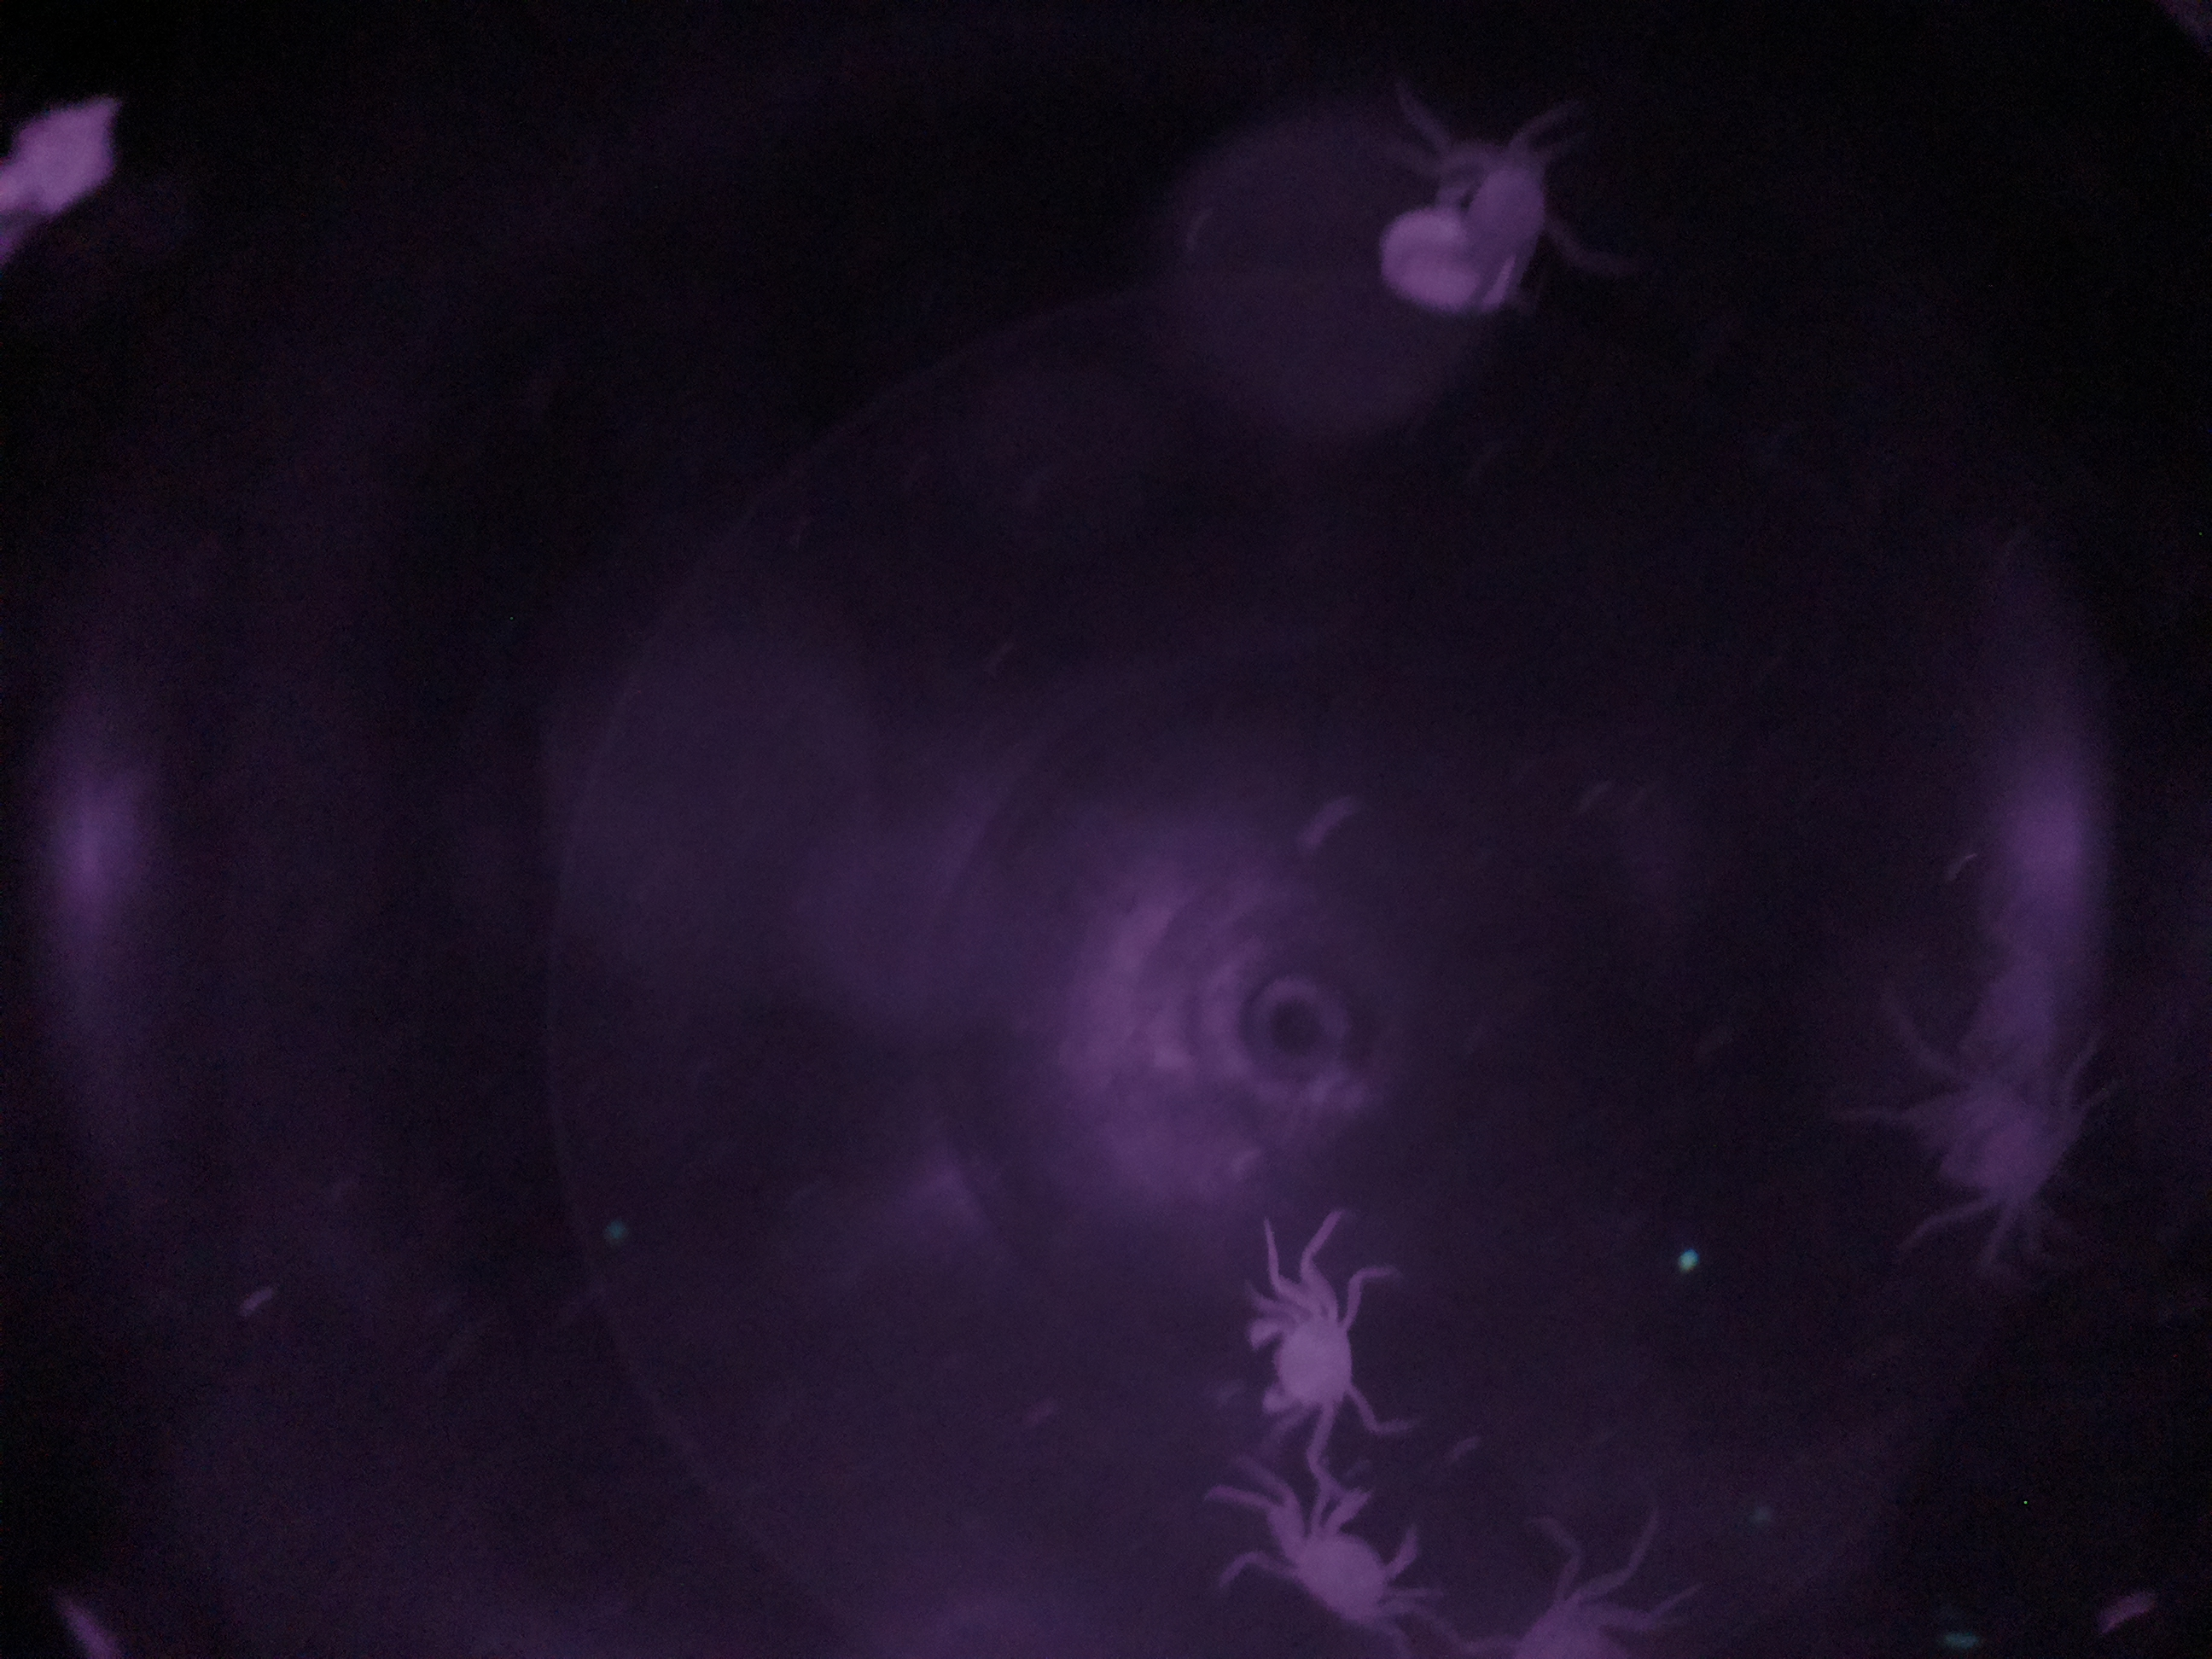Crab: (1264, 1469, 1430, 1635), (1235, 1255, 1378, 1441)
